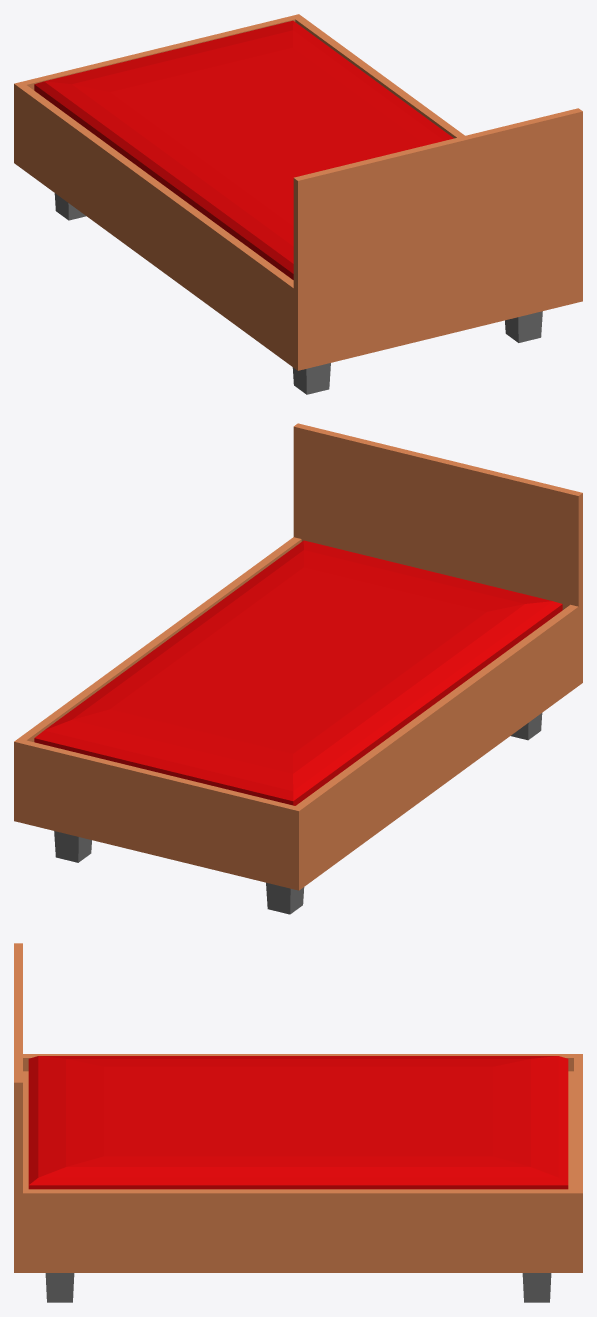
Rendered from Bed2.fbx.
3 renders of one model, top to bottom at view 1: azimuth 30°, elevation 25°; view 2: azimuth 150°, elevation 25°; view 3: azimuth 270°, elevation 25°, orthographic.
Visible parts, largest first — view 1: Bed; view 2: Bed; view 3: Bed.
Boxes of the visible parts, box(x1,y1,x2,y2) form: Bed: box(14, 14, 582, 394); Bed: box(14, 423, 582, 914); Bed: box(14, 943, 582, 1302).
Bounding box in the file's own units: 436 × 339 × 752.
